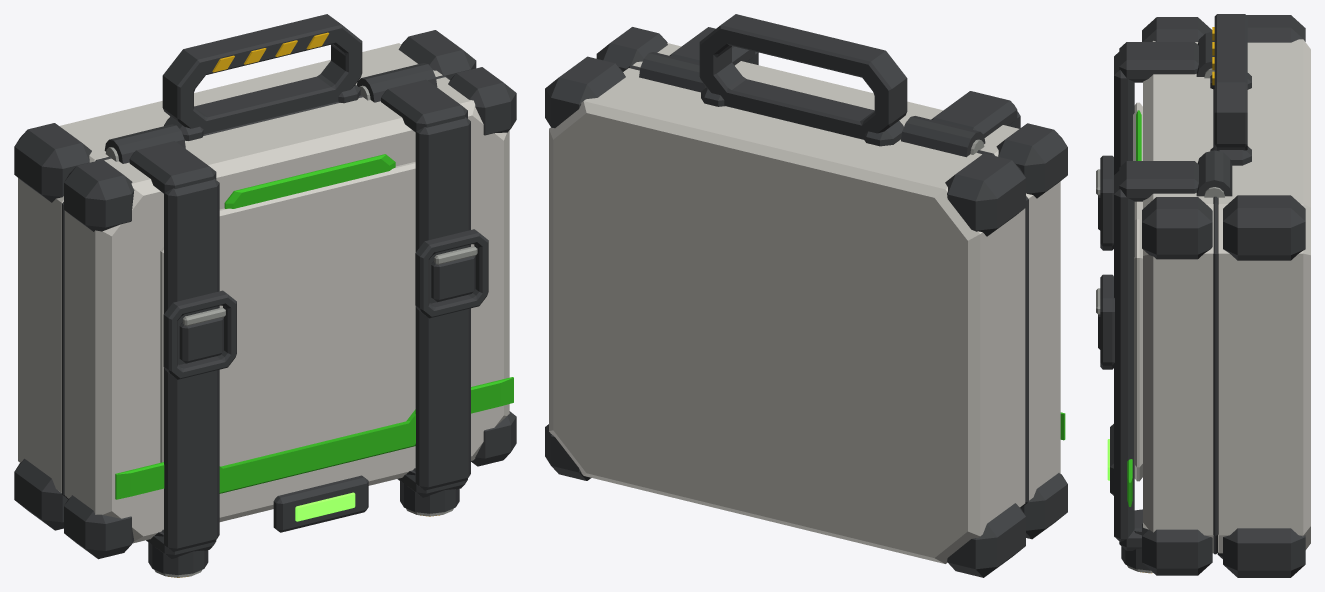
Rendered from 01_medkit_closed.fbx.
The picture shows the model from 3 angles, left to right: view 1: azimuth 30°, elevation 25°; view 2: azimuth 150°, elevation 25°; view 3: azimuth 270°, elevation 25°; orthographic projection. The views are drawn at different scales.
Parts seen in each view (by area): view 1: 01_medkit_closed; view 2: 01_medkit_closed; view 3: 01_medkit_closed.
Part boxes in pixels (<box>): 01_medkit_closed: <box>14,14,516,577</box>; 01_medkit_closed: <box>545,14,1067,577</box>; 01_medkit_closed: <box>1096,14,1310,577</box>.
Bounding box in the file's own units: 23.17 × 24 × 10.23.
